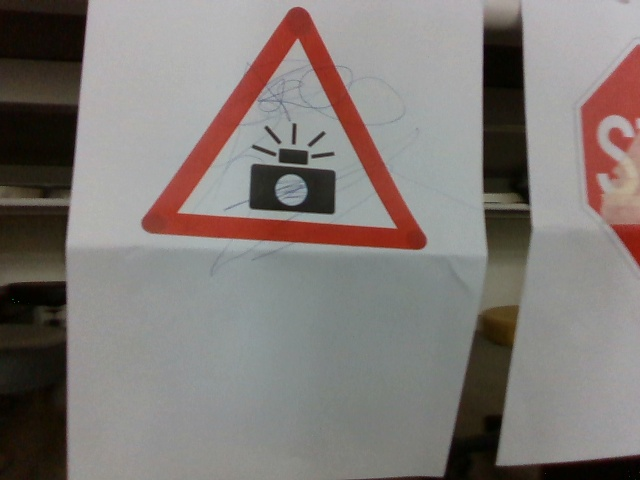camera: (143, 7, 430, 252)
